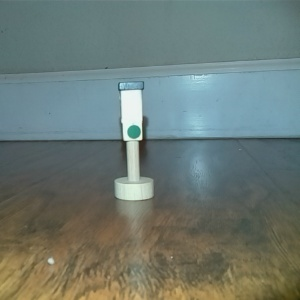traffic light green: (112, 79, 157, 203)
